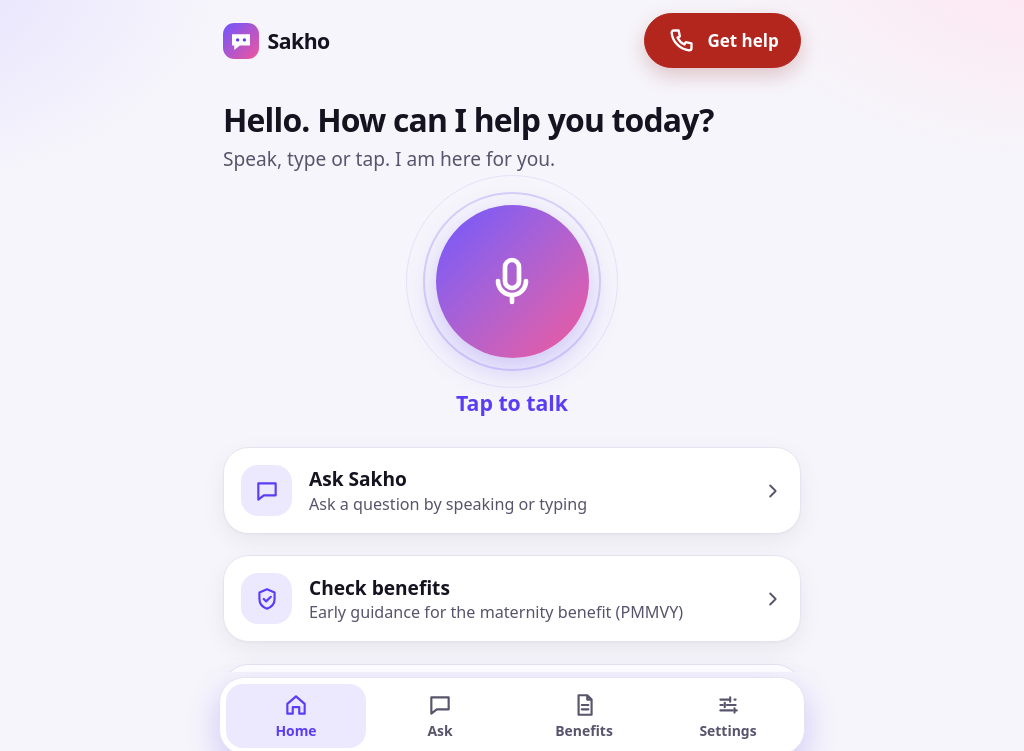
Test: emergency help › asks for location only when the user presses the button, and shows it without sending it
The width and height of the screenshot is (1024, 751).
Click the button "Get help": (723,41) [644, 13, 801, 68]
(page scrolled)
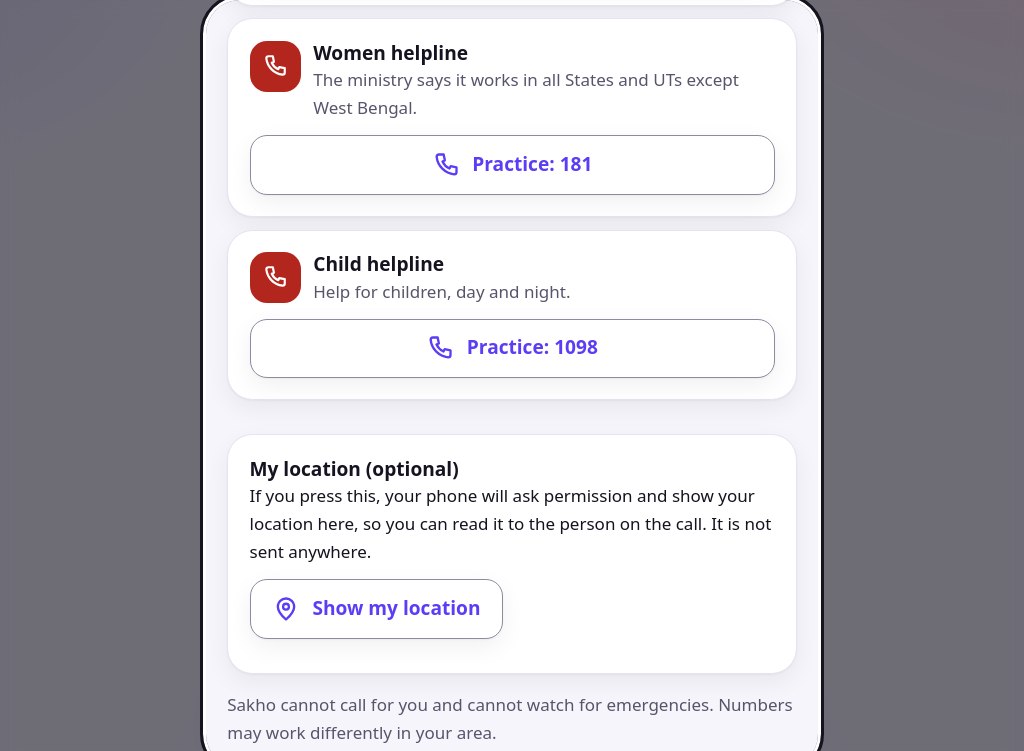
Click the button "Show my location": (376,609) [250, 579, 503, 639]
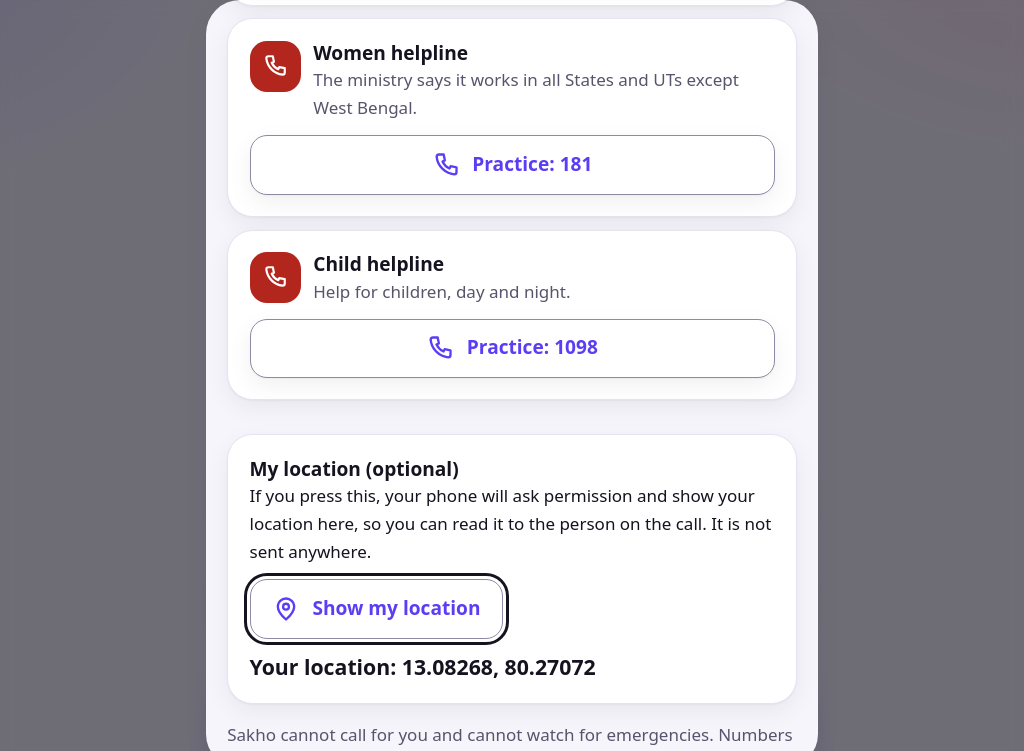
Expected: the text "13.08268, 80.27072" is shown, [402, 652, 596, 680]
